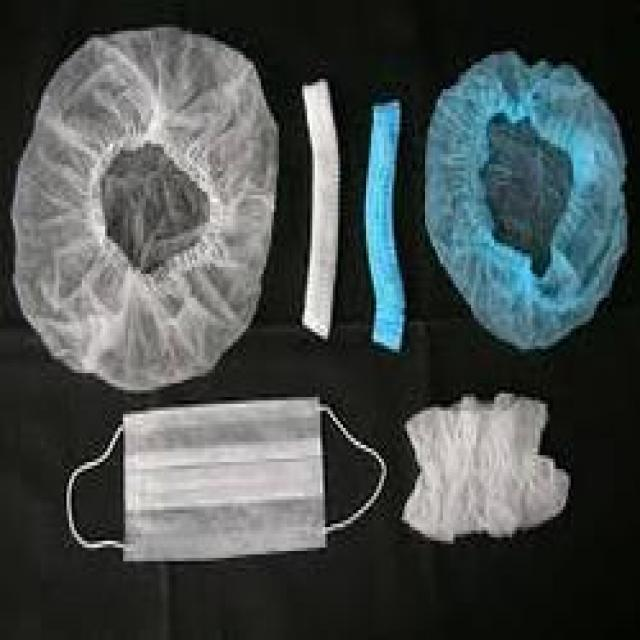non-organic waste: (66, 390, 392, 558)
